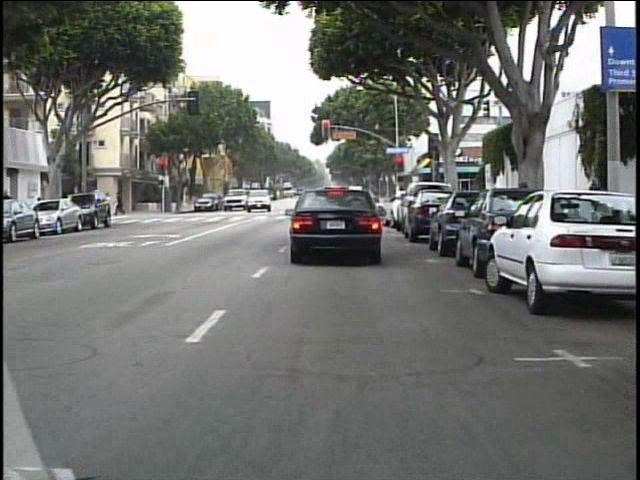person: (2, 187, 18, 231), (116, 189, 128, 219)
